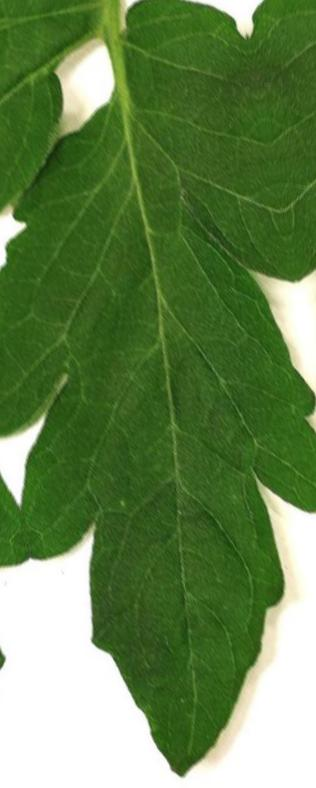Tomato leaf: (0, 0, 316, 788), (0, 3, 147, 262)
